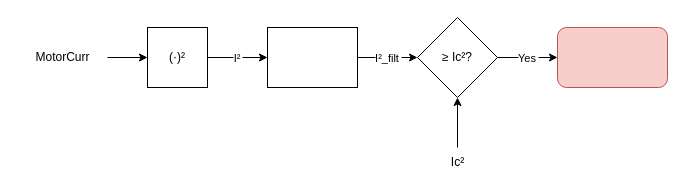
Some shapes in this 685 by 195 pixel diagram are drawn without their labels. The shapes that lost their labels are listed below. From the top down, each one's box as (x1, y1, x2, y2) in pixels, then its label:
(266, 26, 358, 88): LPF 1/(τs+1)
(556, 26, 668, 88): I2t Trip Event
